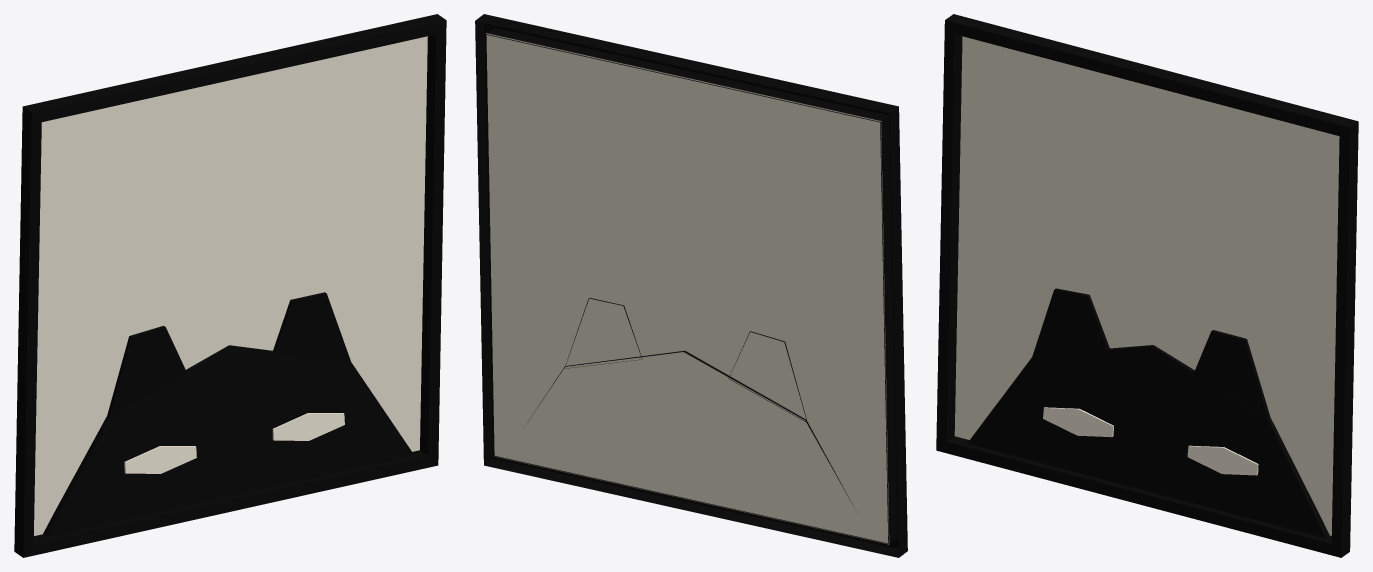
File: Childroom2_Picture1.glb
3 renders of one model, left to right at view 1: azimuth 30°, elevation 25°; view 2: azimuth 150°, elevation 25°; view 3: azimuth 330°, elevation 25°, orthographic. The views are drawn at different scales.
Visible parts, largest first — view 1: Childroom2_Picture1; view 2: Childroom2_Picture1; view 3: Childroom2_Picture1.
Part boxes in pixels (bbox=[...]): Childroom2_Picture1: bbox=[14, 14, 446, 557]; Childroom2_Picture1: bbox=[475, 14, 907, 557]; Childroom2_Picture1: bbox=[936, 14, 1358, 557].
Size of the model in its own units: 0.8095 by 0.8252 by 0.0337.
1 material, 1 textured.
